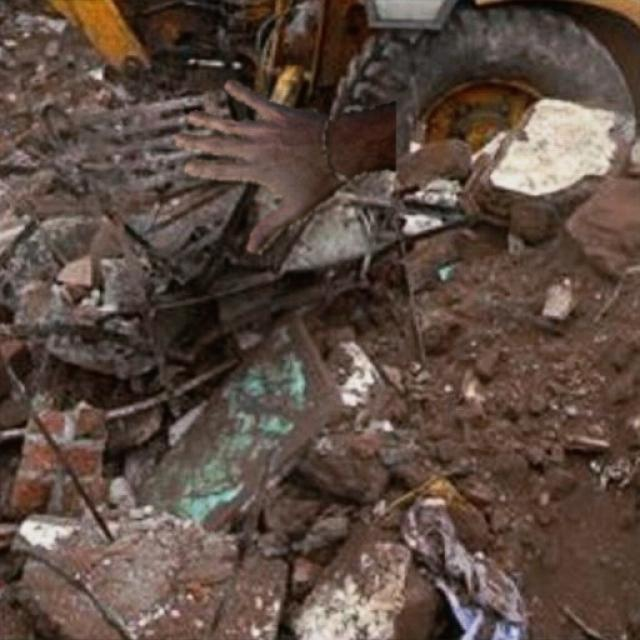Person in Rubble: (175, 80, 395, 254)
